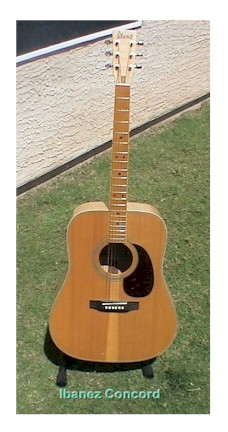guitar: (47, 28, 181, 363)
